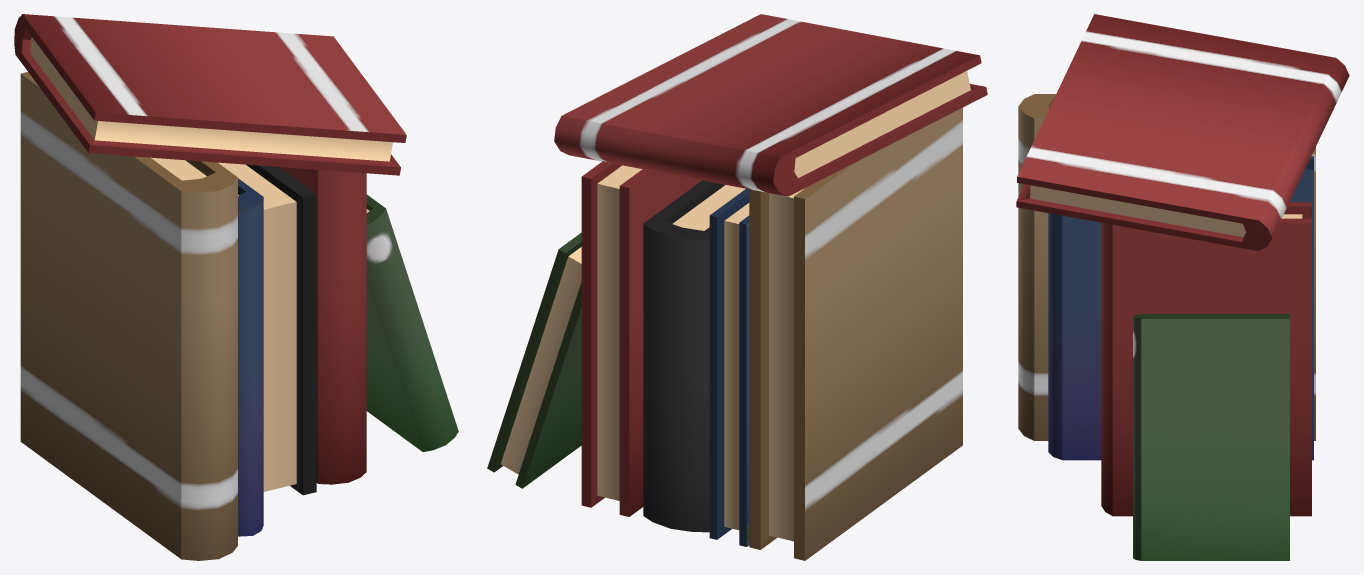
File: BooksMesh_001.fbx
3 renders of one model, left to right at view 1: azimuth 30°, elevation 25°; view 2: azimuth 150°, elevation 25°; view 3: azimuth 270°, elevation 25°, orthographic. The views are drawn at different scales.
Visible parts, largest first — view 1: Books_001; view 2: Books_001; view 3: Books_001.
Part boxes in pixels (x1,y1,x2,y2): Books_001: (14, 14, 458, 560); Books_001: (487, 14, 987, 560); Books_001: (1016, 14, 1349, 560).
Bounding box in the file's own units: 0.027 × 0.029 × 0.0224.
